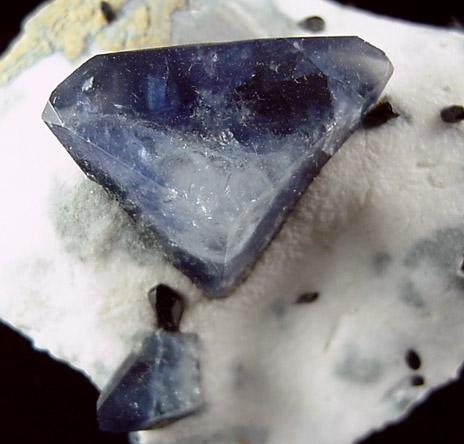benitoite: (42, 36, 394, 296), (98, 286, 201, 432)
